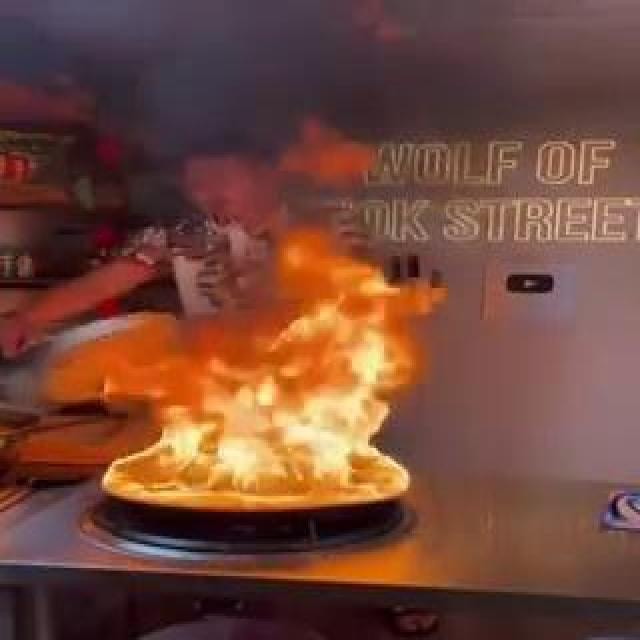Fire: (257, 326, 358, 376)
